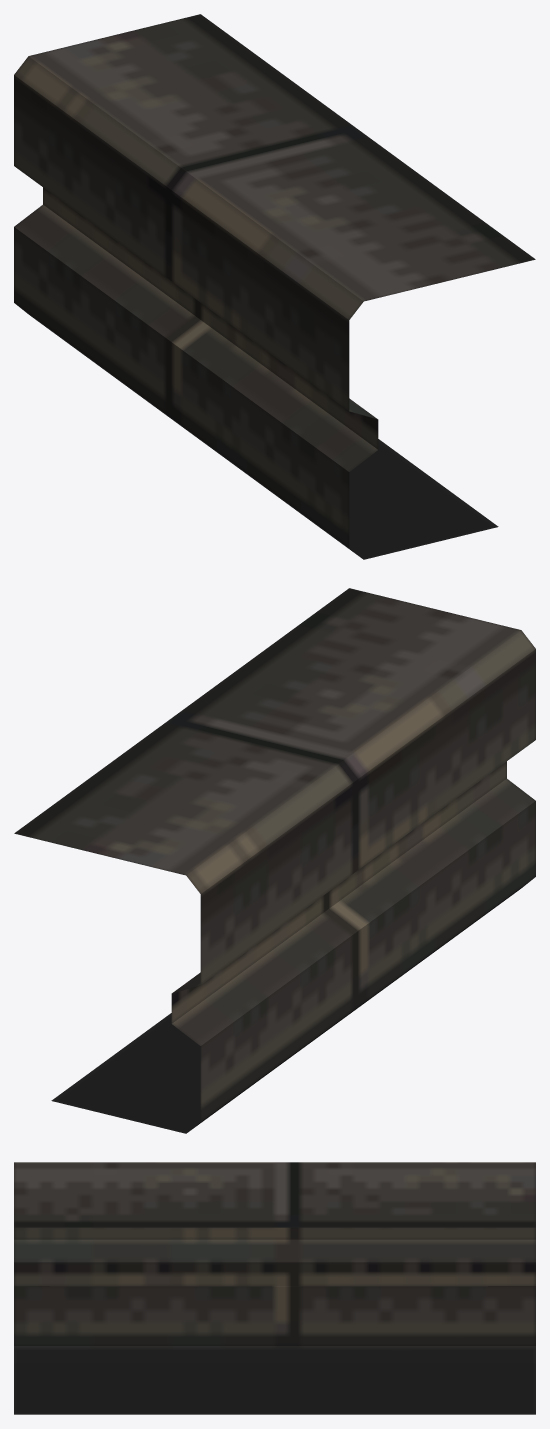
File: EnvMdrMD_Castle_A_Wall_A_Loop_Base.FBX
The picture shows the model from 3 angles, top to bottom: view 1: azimuth 30°, elevation 25°; view 2: azimuth 150°, elevation 25°; view 3: azimuth 270°, elevation 25°; orthographic projection. The views are drawn at different scales.
Visible parts, largest first — view 1: EnvMdrMD_Castle_A_Wall_A_Loop_Base; view 2: EnvMdrMD_Castle_A_Wall_A_Loop_Base; view 3: EnvMdrMD_Castle_A_Wall_A_Loop_Base.
Boxes of the visible parts, bbox=[...] form: EnvMdrMD_Castle_A_Wall_A_Loop_Base: bbox=[14, 14, 535, 559]; EnvMdrMD_Castle_A_Wall_A_Loop_Base: bbox=[14, 588, 535, 1133]; EnvMdrMD_Castle_A_Wall_A_Loop_Base: bbox=[14, 1162, 535, 1414].
Bounding box in the file's own units: 64.29 × 85 × 200.
1 material, 1 textured.
